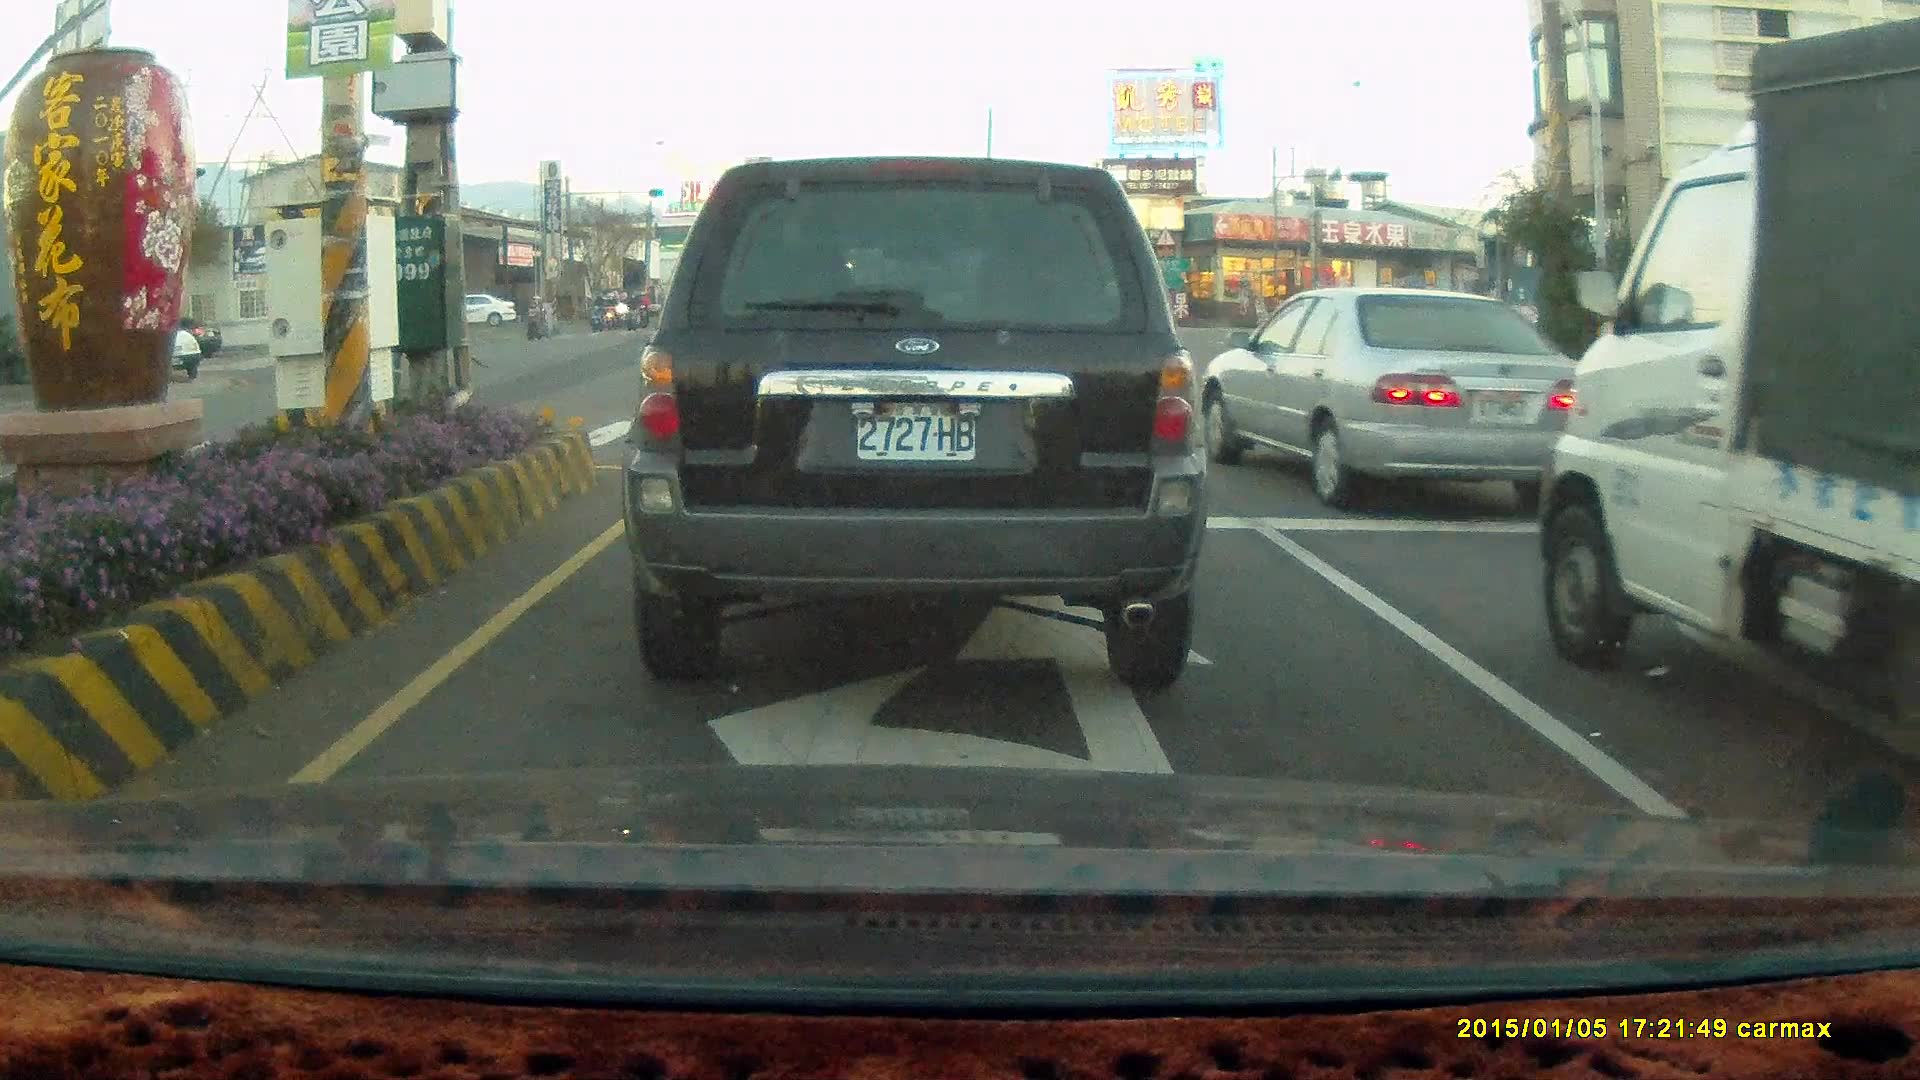rider: (517, 291, 548, 340), (621, 289, 645, 333), (586, 290, 607, 334), (590, 294, 612, 333)
vehicle: (1535, 11, 1920, 834), (619, 156, 1207, 691), (1196, 284, 1592, 510), (1191, 287, 1578, 511), (1675, 281, 1831, 371), (448, 295, 518, 328)
